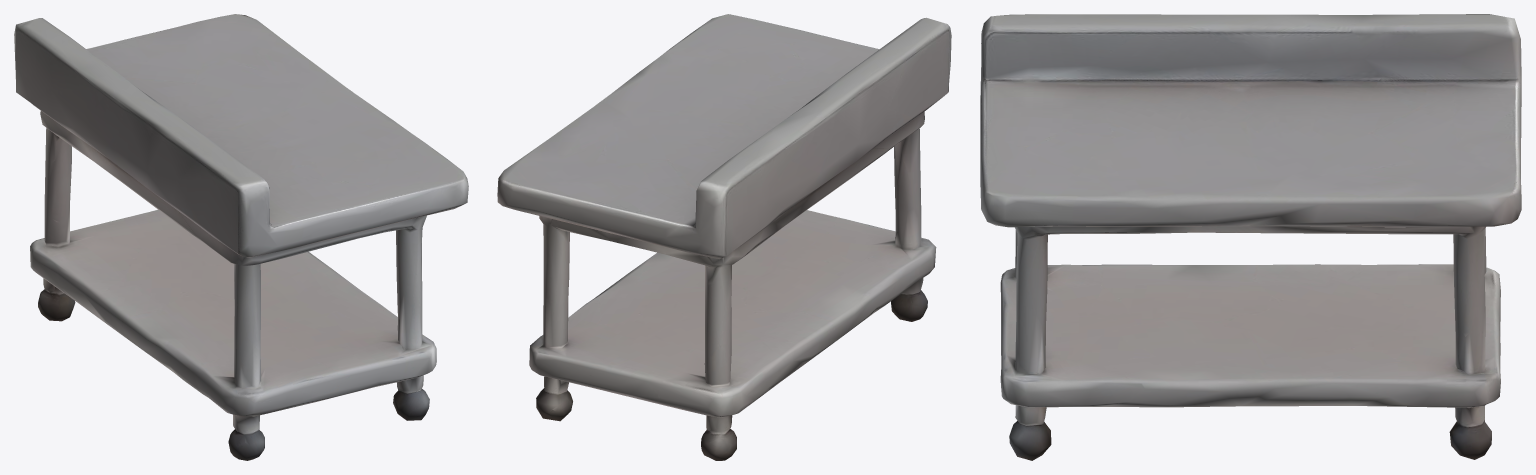
Rendered from prep_table.glb.
The picture shows the model from 3 angles, left to right: view 1: azimuth 30°, elevation 25°; view 2: azimuth 150°, elevation 25°; view 3: azimuth 270°, elevation 25°; orthographic projection. The views are drawn at different scales.
Parts seen in each view (by area): view 1: tripo_node_b78e98a3-c3e6-4e35-9640-f3d37635e932; view 2: tripo_node_b78e98a3-c3e6-4e35-9640-f3d37635e932; view 3: tripo_node_b78e98a3-c3e6-4e35-9640-f3d37635e932.
Part boxes in pixels (<box>): tripo_node_b78e98a3-c3e6-4e35-9640-f3d37635e932: <box>14,14,468,460</box>; tripo_node_b78e98a3-c3e6-4e35-9640-f3d37635e932: <box>497,14,951,460</box>; tripo_node_b78e98a3-c3e6-4e35-9640-f3d37635e932: <box>980,14,1521,460</box>.
Bounding box in the file's own units: 0.5815 × 0.6887 × 1.
Materials: 1 (1 with a texture image).
